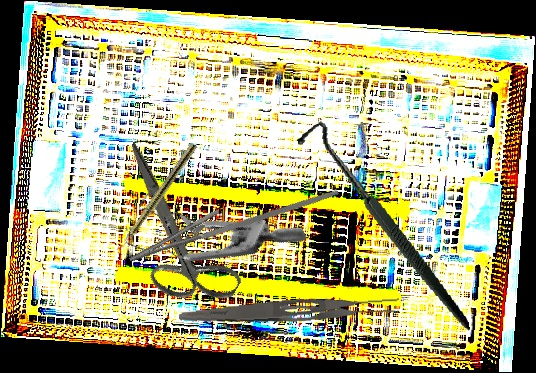Dressing Forceps: (178, 292, 401, 332)
Handpiece: (114, 141, 199, 255)
Hook Surgical: (294, 102, 471, 355)
Iris Scissors: (75, 140, 275, 325)
Needle Holder: (121, 150, 340, 287)
Speculum: (110, 136, 308, 316)
